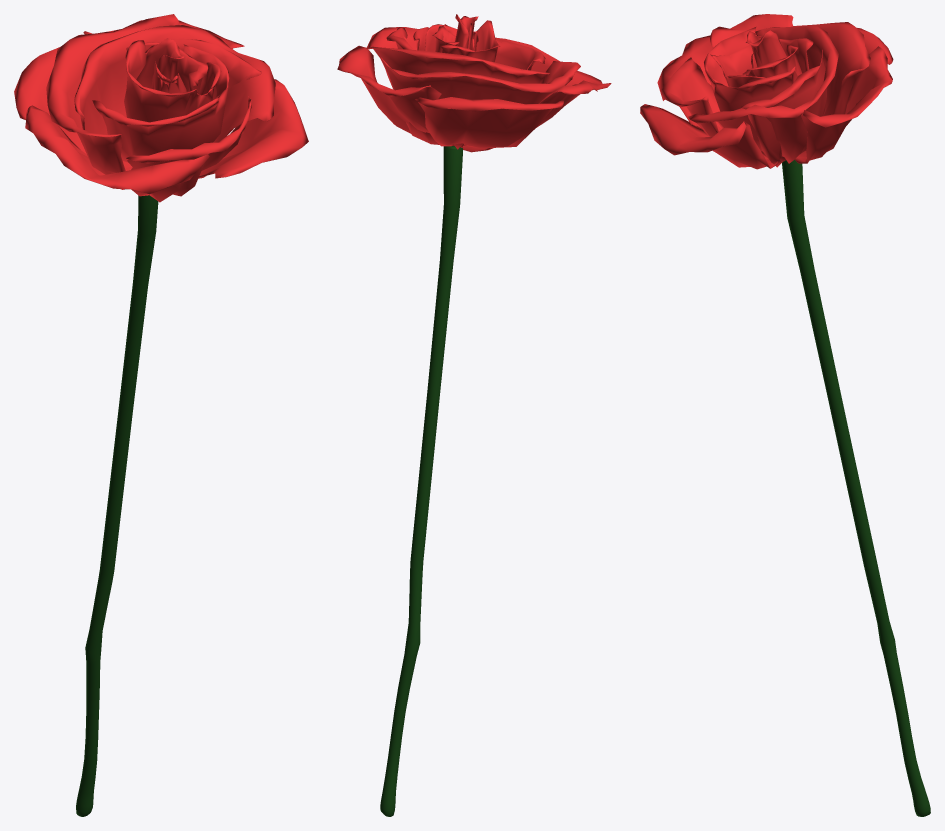
File: ROSE.fbx
The picture shows the model from 3 angles, left to right: view 1: azimuth 30°, elevation 25°; view 2: azimuth 150°, elevation 25°; view 3: azimuth 270°, elevation 25°; orthographic projection. The views are drawn at different scales.
Visible parts, largest first — view 1: Rose; view 2: Rose; view 3: Rose.
Part boxes in pixels (box(x1,y1,x2,y2)): Rose: box(14, 14, 308, 816); Rose: box(337, 14, 611, 816); Rose: box(640, 14, 930, 816).
Size of the model in its own units: 1615 by 5187 by 1733.
